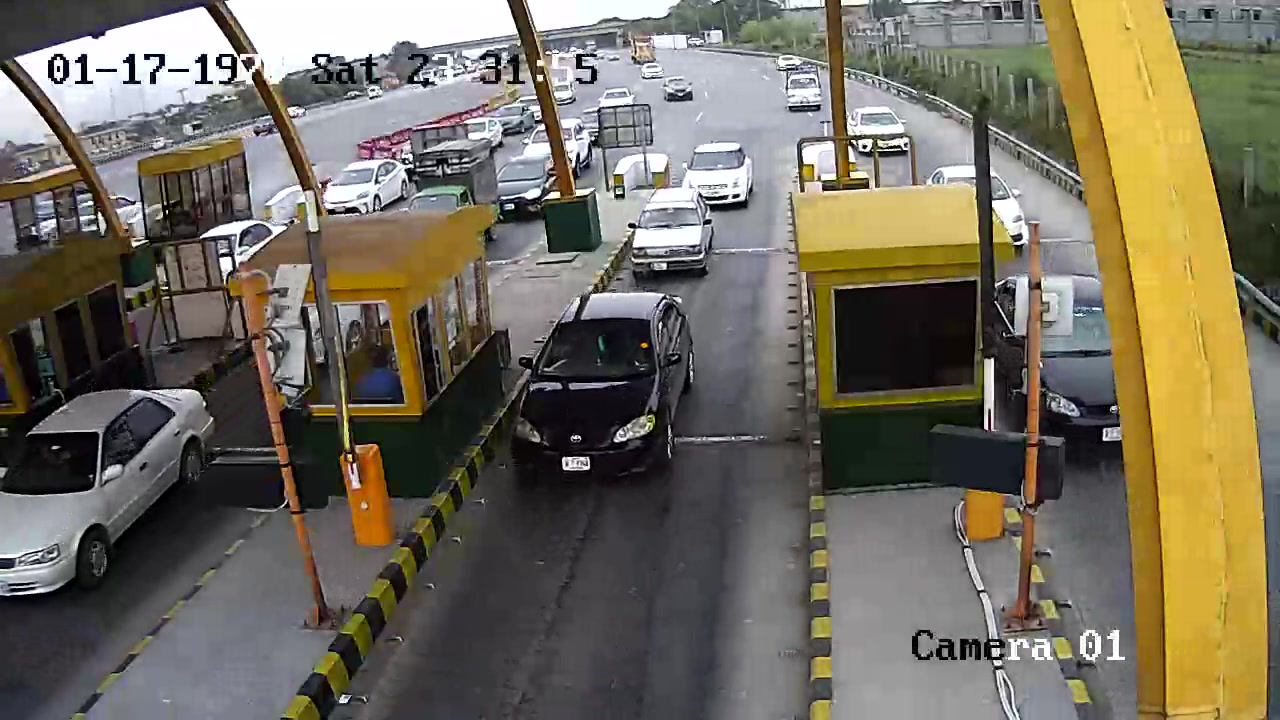F1: (501, 285, 713, 489)
